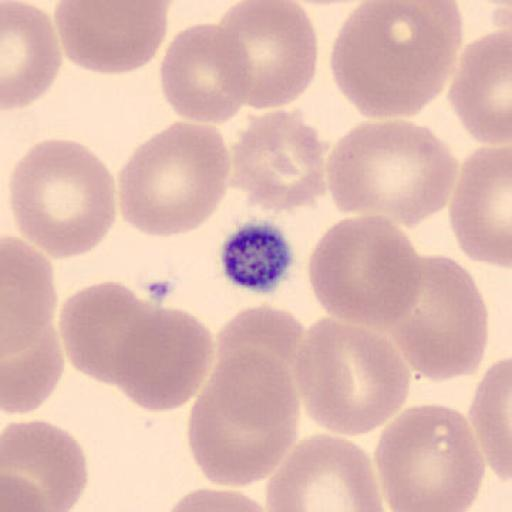Platelet: (218, 218, 296, 295)
RBC: (328, 0, 463, 120), (187, 351, 301, 488), (326, 118, 458, 229), (294, 316, 412, 436), (116, 121, 232, 239), (306, 214, 424, 328), (7, 137, 117, 259), (392, 252, 490, 384), (372, 402, 486, 512), (1, 233, 64, 419), (216, 0, 320, 111), (58, 280, 161, 386), (228, 108, 330, 214), (113, 306, 214, 412), (157, 20, 254, 125), (264, 431, 386, 512), (54, 2, 172, 76), (2, 417, 90, 512), (215, 303, 306, 394), (448, 143, 512, 269), (448, 27, 512, 146), (2, 0, 62, 110), (468, 356, 512, 486), (161, 486, 273, 512), (2, 471, 61, 512), (280, 0, 377, 6)
